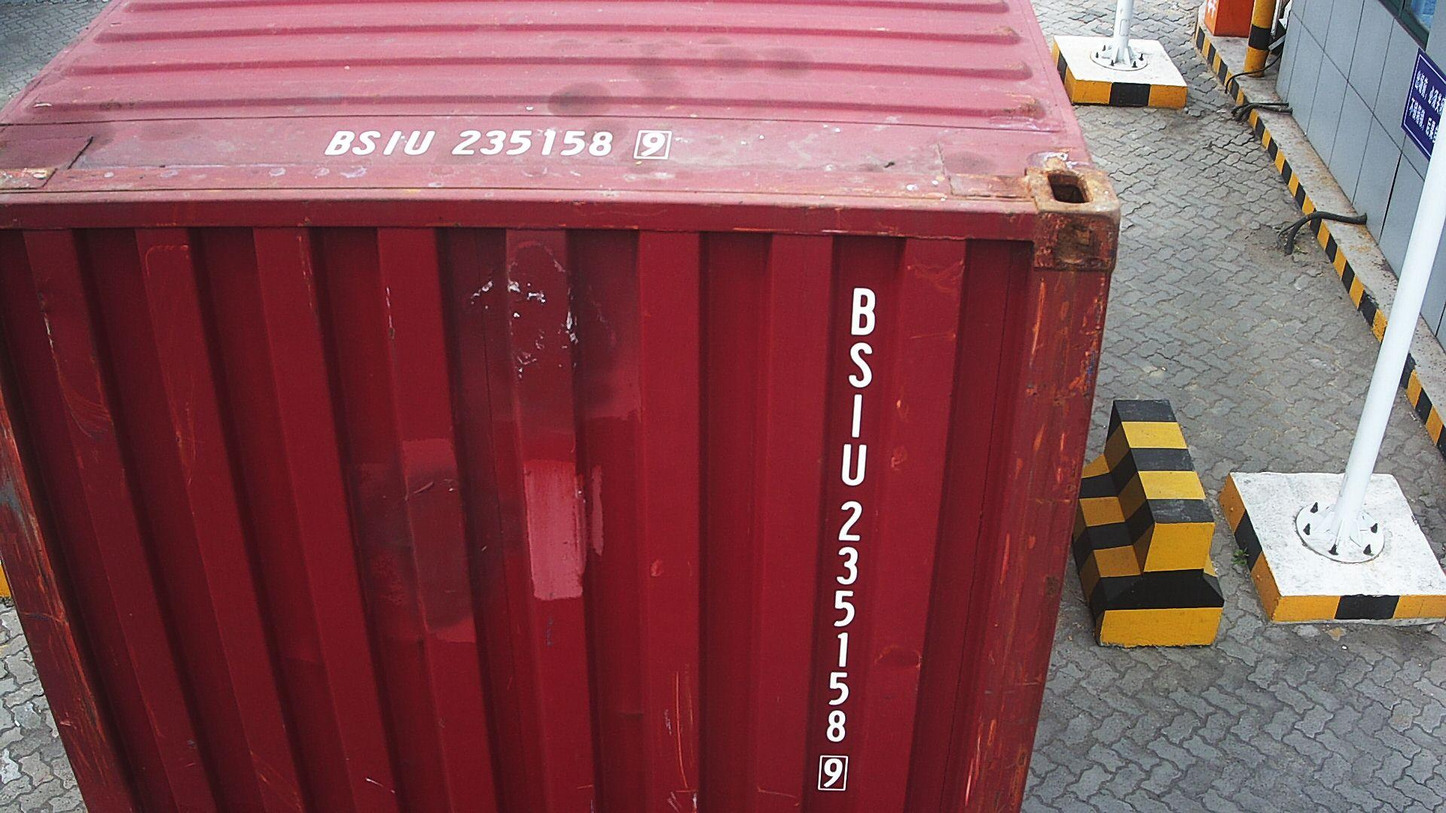container-numbers: (812, 279, 884, 796), (317, 123, 677, 163)
